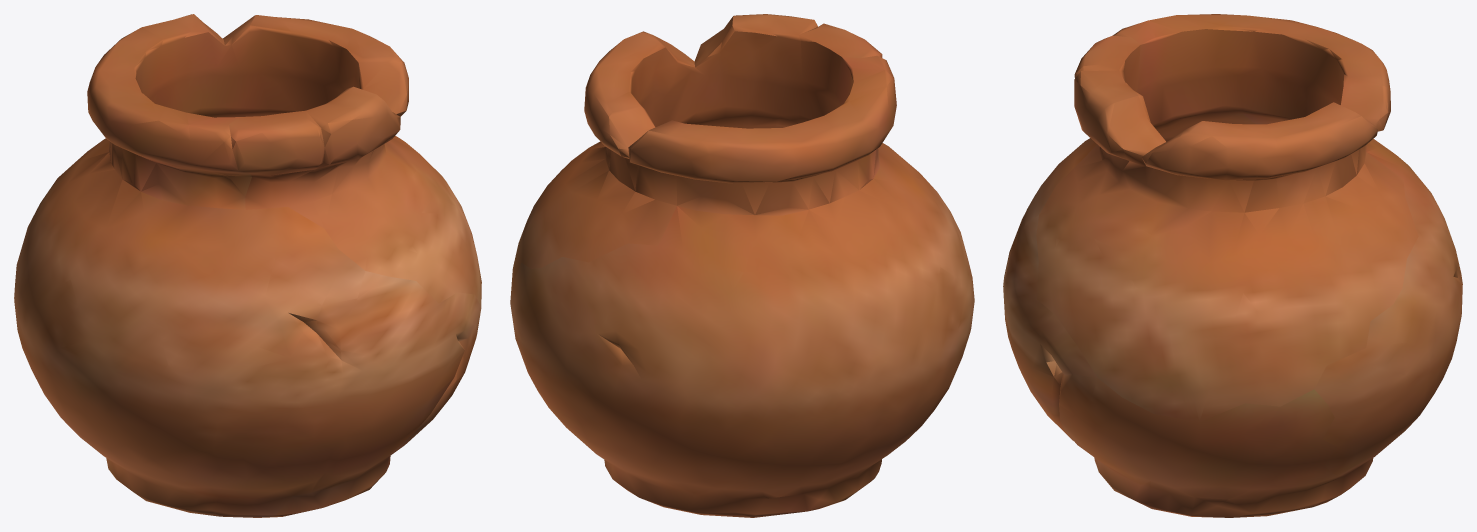
File: jarron_3000.glb
The picture shows the model from 3 angles, left to right: view 1: azimuth 30°, elevation 25°; view 2: azimuth 150°, elevation 25°; view 3: azimuth 270°, elevation 25°; orthographic projection.
Parts seen in each view (by area): view 1: jarron_malla; view 2: jarron_malla; view 3: jarron_malla.
Part boxes in pixels (x1,y1,x2,y2): jarron_malla: (14,14,481,517); jarron_malla: (510,14,974,517); jarron_malla: (1003,14,1462,517).
Size of the model in its own units: 0.1751 by 0.1621 by 0.1713.
Materials: 1 (1 with a texture image).
